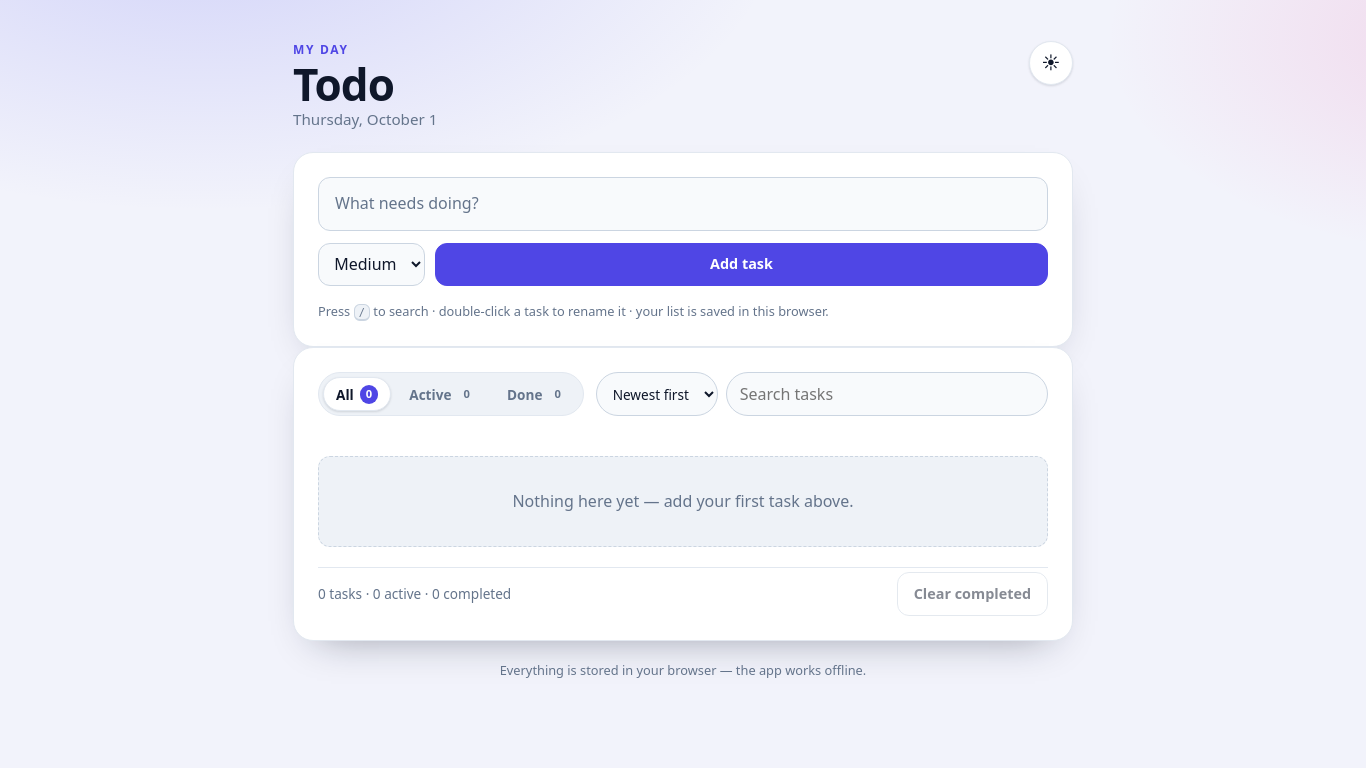
Test case: Todo app › toggles a task complete and updates the counts
The image size is (1366, 768).
Type "Walk dog" into the field named "Task description".
click(683, 204); type("Walk dog")  # box [318,176,1048,230]
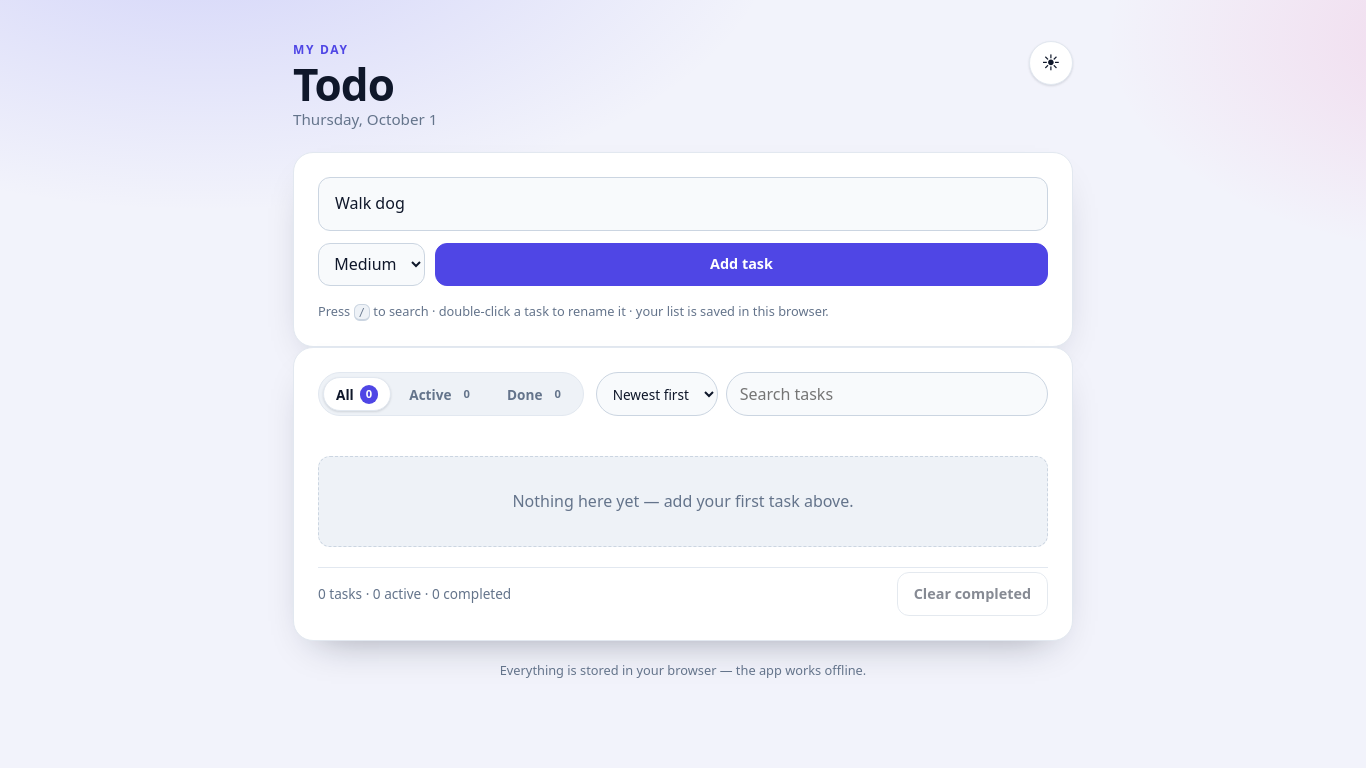
Click the button "Add task".
click(742, 264)  # box [435,242,1048,286]
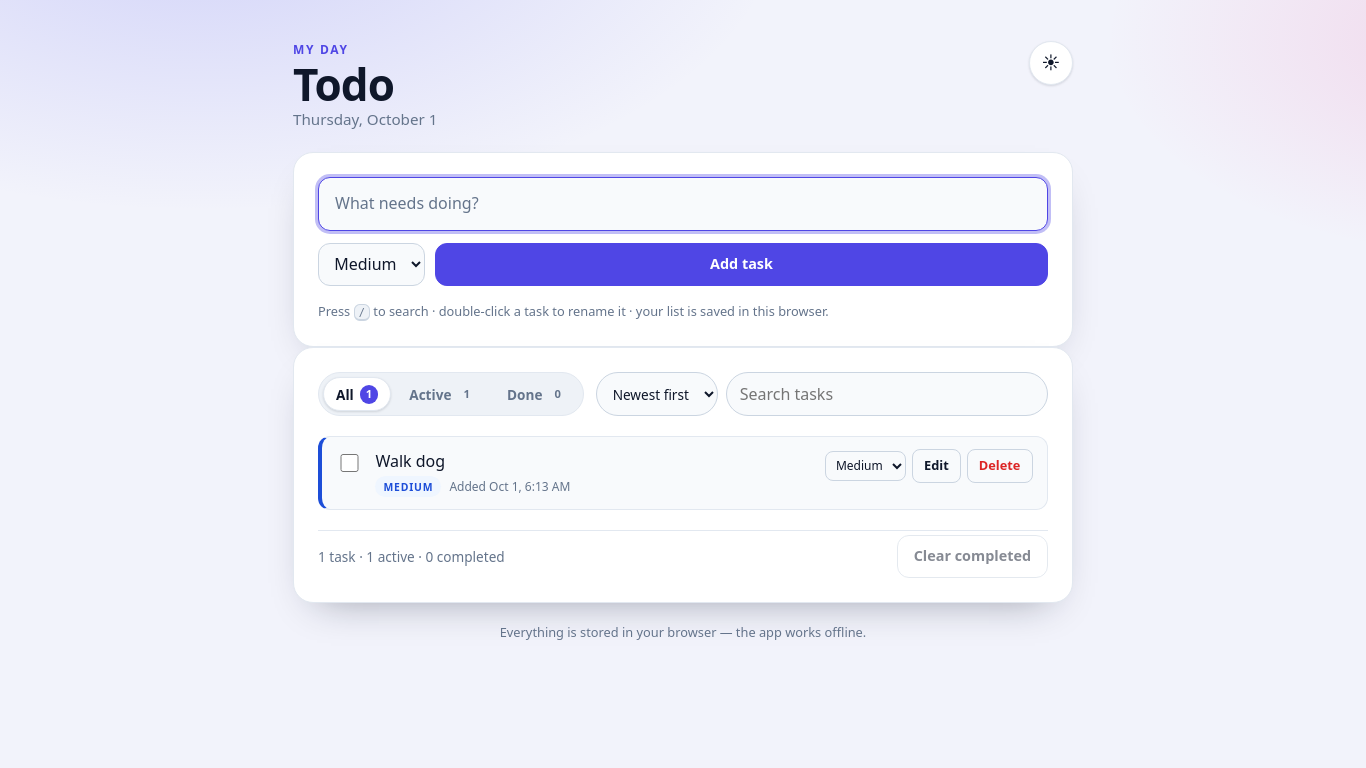
Click the checkbox named "Mark \"Walk dog\" as done".
click(350, 463)  # box [340,454,359,472]
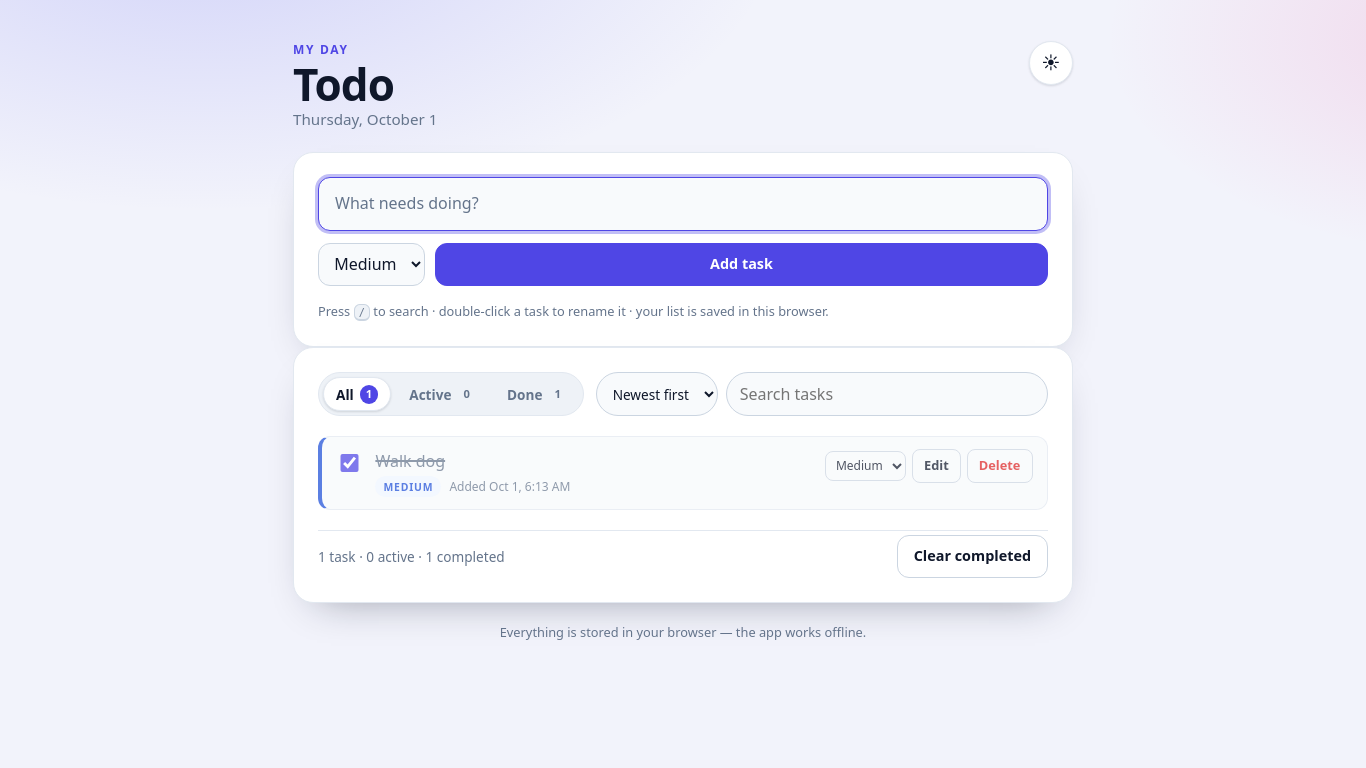
Check: the text with id "status" reads "1 task · 0 active · 1 completed", box [318,547,505,566]
Check: the button with id "clear-completed" is enabled, box [897,535,1048,578]
